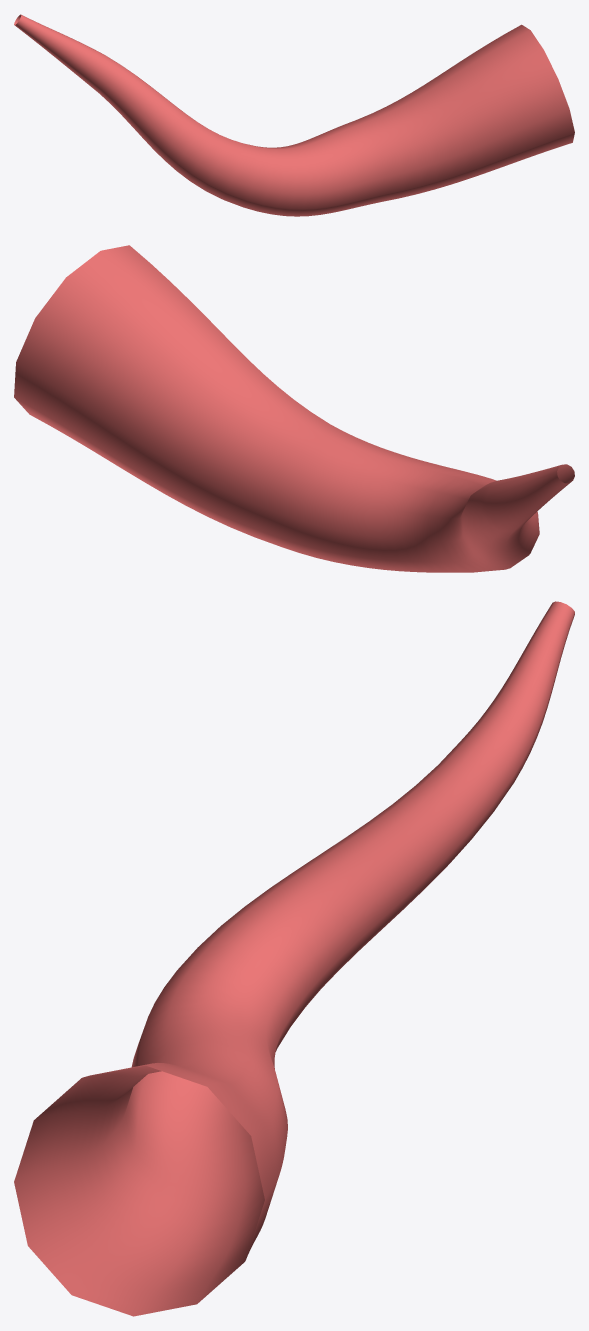
File: Anterior_branch_of_renal_artery.r_BezierCurve.436.glb
3 views of the same model, one above another, from view 1: azimuth 30°, elevation 25°; view 2: azimuth 150°, elevation 25°; view 3: azimuth 270°, elevation 25° (orthographic). The views are drawn at different scales.
Visible parts, largest first — view 1: Anterior_branch_of_renal_artery.r_BezierCurve.436; view 2: Anterior_branch_of_renal_artery.r_BezierCurve.436; view 3: Anterior_branch_of_renal_artery.r_BezierCurve.436.
Boxes of the visible parts, bbox=[...] form: Anterior_branch_of_renal_artery.r_BezierCurve.436: bbox=[14, 14, 574, 216]; Anterior_branch_of_renal_artery.r_BezierCurve.436: bbox=[14, 245, 574, 572]; Anterior_branch_of_renal_artery.r_BezierCurve.436: bbox=[14, 601, 574, 1316].
Size of the model in its own units: 0.0239 by 0.00935 by 0.0132.
